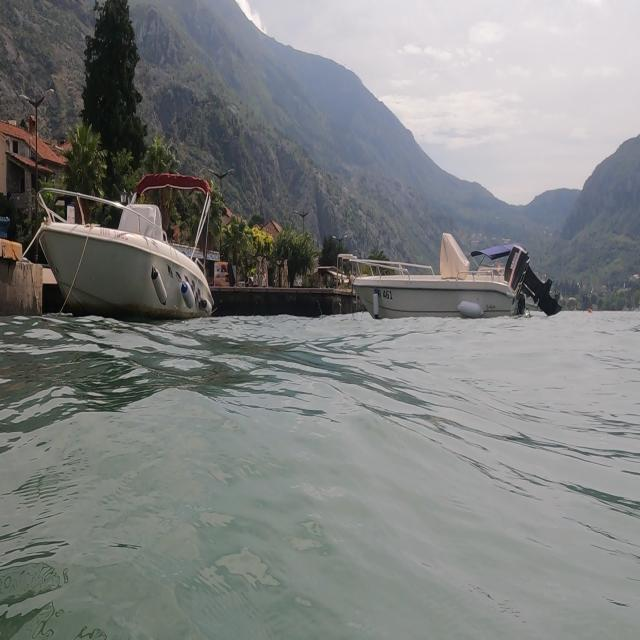boat: (344, 219, 574, 348), (34, 168, 218, 322)
